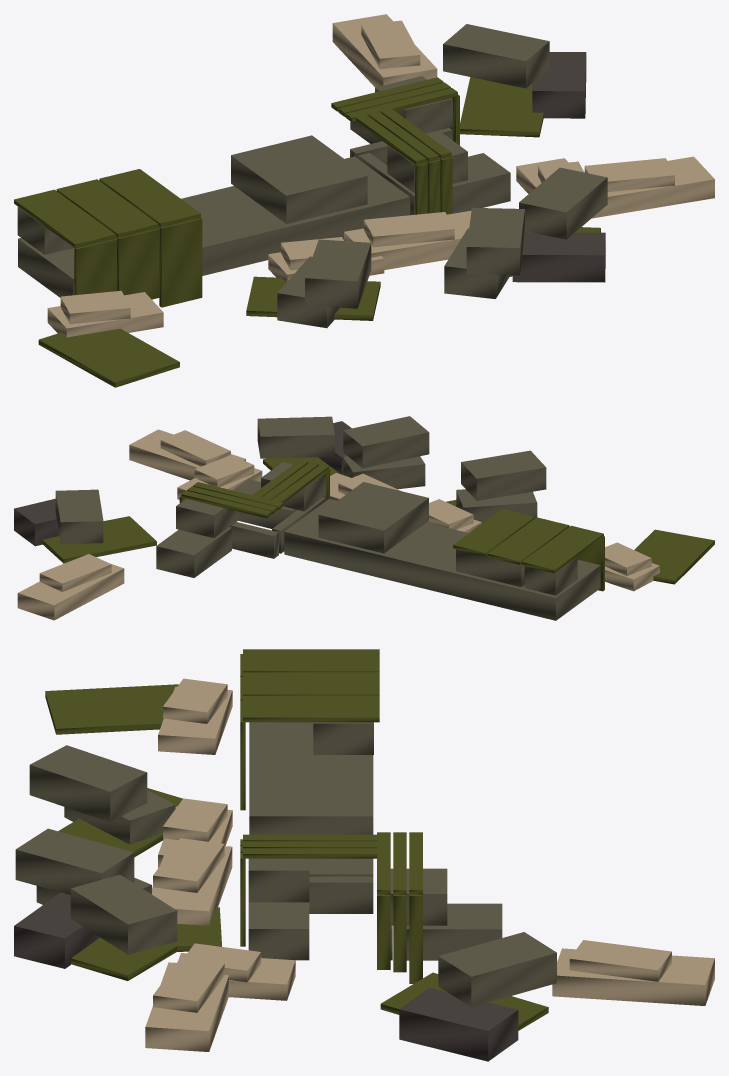
Rendered from SM_SacosRemateEspejo_v4_Red_e2_MuyDanado_LOD1.fbx.
The picture shows the model from 3 angles, top to bottom: view 1: azimuth 30°, elevation 25°; view 2: azimuth 150°, elevation 25°; view 3: azimuth 270°, elevation 25°; orthographic projection. The views are drawn at different scales.
Visible parts, largest first — view 1: SM_sacos_piezas_v38_LOD1; view 2: SM_sacos_piezas_v38_LOD1; view 3: SM_sacos_piezas_v38_LOD1.
Part boxes in pixels (x1,y1,x2,y2): SM_sacos_piezas_v38_LOD1: [14, 14, 714, 387]; SM_sacos_piezas_v38_LOD1: [14, 416, 714, 620]; SM_sacos_piezas_v38_LOD1: [14, 649, 714, 1061].
Size of the model in its own units: 6.82 by 0.7939 by 5.44.
